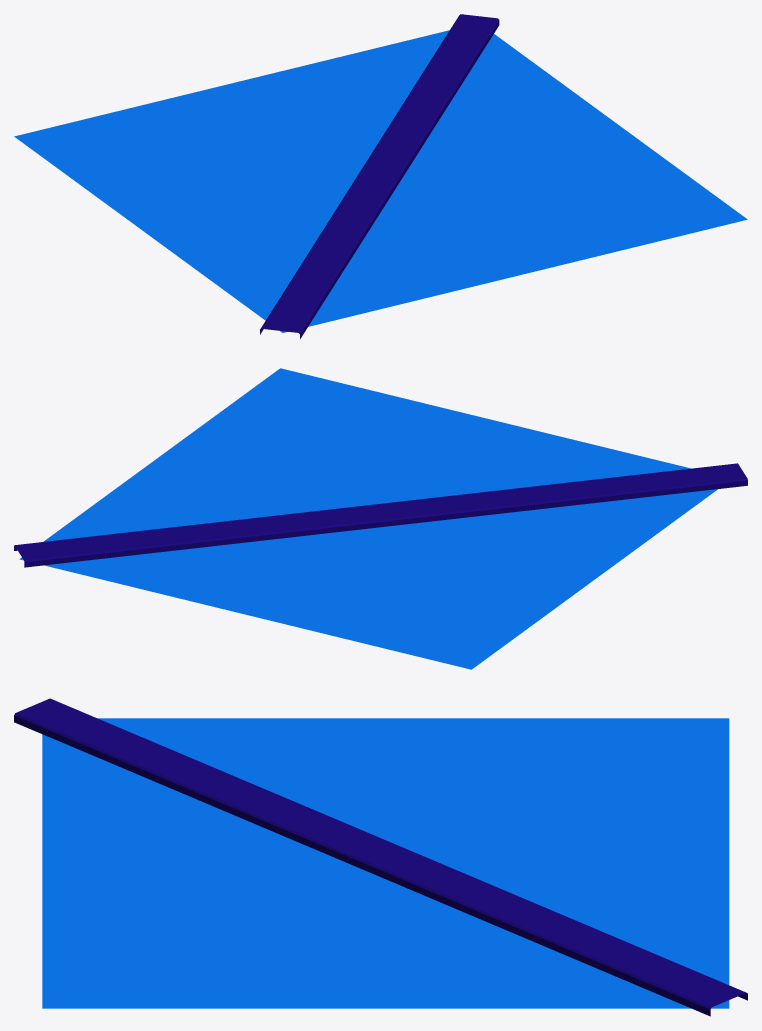
Rendered from Toit_Bordures_01.FBX.
3 views of the same model, one above another, from view 1: azimuth 30°, elevation 25°; view 2: azimuth 150°, elevation 25°; view 3: azimuth 270°, elevation 25° (orthographic). The views are drawn at different scales.
Parts seen in each view (by area): view 1: Toit_bordures_01; view 2: Toit_bordures_01; view 3: Toit_bordures_01.
Part boxes in pixels (bbox=[...]): Toit_bordures_01: bbox=[14, 14, 747, 338]; Toit_bordures_01: bbox=[14, 368, 747, 669]; Toit_bordures_01: bbox=[14, 698, 747, 1016].
Bounding box in the file's own units: 387 × 5.05 × 387.
